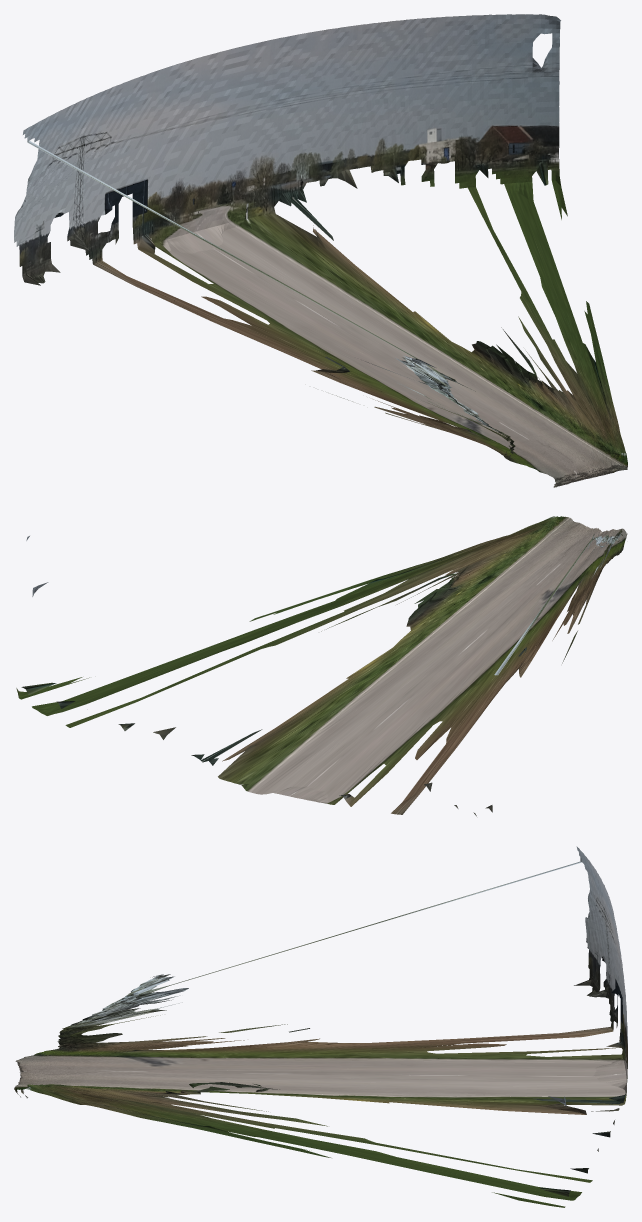
3 renders of one model, top to bottom at view 1: azimuth 30°, elevation 25°; view 2: azimuth 150°, elevation 25°; view 3: azimuth 270°, elevation 25°, orthographic. The views are drawn at different scales.
Visible parts, largest first — view 1: defaultobject; view 2: defaultobject; view 3: defaultobject.
Part boxes in pixels (x1,y1,x2,y2): defaultobject: (14,14,627,487); defaultobject: (16,516,627,816); defaultobject: (14,846,627,1207).
Size of the model in its own units: 37.55 by 12.56 by 44.42.
1 material, 1 textured.
